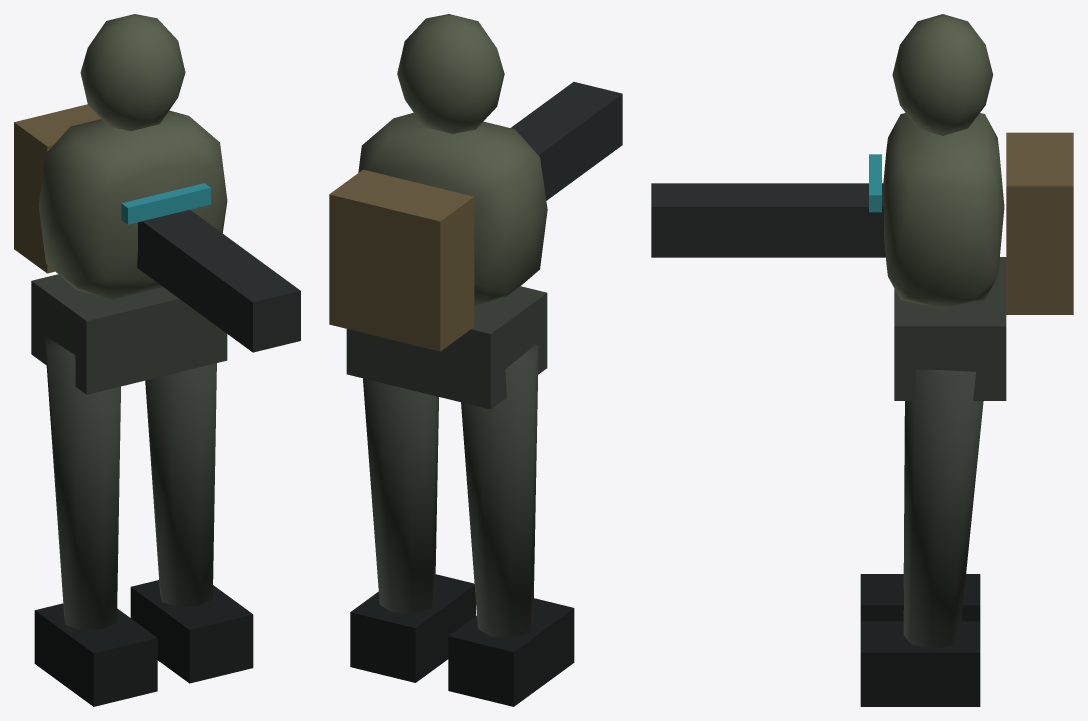
File: Bastion_Engineer_LOD2.obj
The picture shows the model from 3 angles, left to right: view 1: azimuth 30°, elevation 25°; view 2: azimuth 150°, elevation 25°; view 3: azimuth 270°, elevation 25°; orthographic projection. The views are drawn at different scales.
Visible parts, largest first — view 1: LOD2Torso, LOD2LeftLeg, LOD2Pelvis, LOD2RightLeg, LOD2Tool, LOD2Head, LOD2LeftBoot, LOD2RightBoot, LOD2Pack, LOD2Accent; view 2: LOD2Pack, LOD2Torso, LOD2LeftLeg, LOD2RightLeg, LOD2Pelvis, LOD2Head, LOD2LeftBoot, LOD2RightBoot, LOD2Tool; view 3: LOD2Torso, LOD2RightLeg, LOD2Tool, LOD2Pack, LOD2Pelvis, LOD2Head, LOD2RightBoot, LOD2LeftBoot, LOD2Accent.
Boxes of the visible parts, x1,y1,x2,y2 form: LOD2Torso: (38, 110, 227, 299); LOD2LeftLeg: (44, 336, 120, 630); LOD2Pelvis: (31, 274, 227, 394); LOD2RightLeg: (145, 363, 216, 606); LOD2Tool: (137, 209, 300, 352); LOD2Head: (80, 14, 185, 130); LOD2LeftBoot: (34, 603, 157, 706); LOD2RightBoot: (130, 580, 253, 683); LOD2Pack: (14, 104, 100, 273); LOD2Accent: (121, 183, 210, 224); LOD2Pack: (329, 169, 474, 351); LOD2Torso: (358, 112, 547, 305); LOD2LeftLeg: (461, 344, 538, 637); LOD2RightLeg: (363, 378, 438, 613); LOD2Pelvis: (346, 286, 547, 409); LOD2Head: (397, 14, 504, 133); LOD2LeftBoot: (448, 598, 574, 706); LOD2RightBoot: (350, 574, 475, 682); LOD2Tool: (511, 82, 622, 200); LOD2Torso: (882, 113, 1004, 308); LOD2RightLeg: (903, 369, 983, 648); LOD2Tool: (651, 183, 885, 257); LOD2Pack: (1006, 132, 1073, 314); LOD2Pelvis: (894, 257, 1006, 400); LOD2Head: (892, 14, 992, 135); LOD2RightBoot: (860, 621, 980, 706); LOD2LeftBoot: (860, 574, 980, 621); LOD2Accent: (869, 154, 881, 212).
Size of the model in its own units: 0.5197 by 1.92 by 1.13.
1 material, 1 textured.
